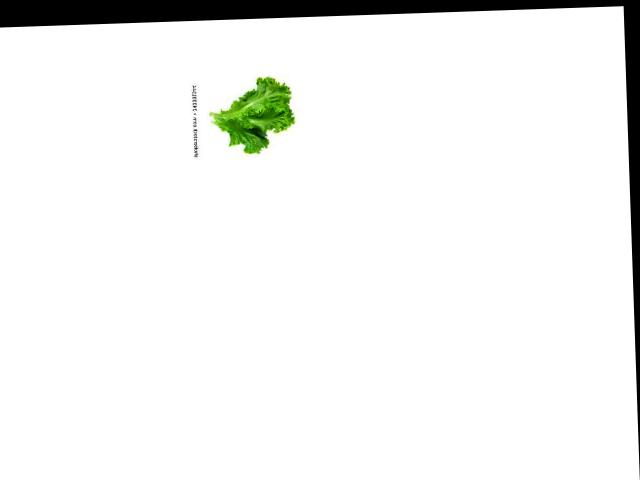lettuce: (202, 76, 297, 157)
